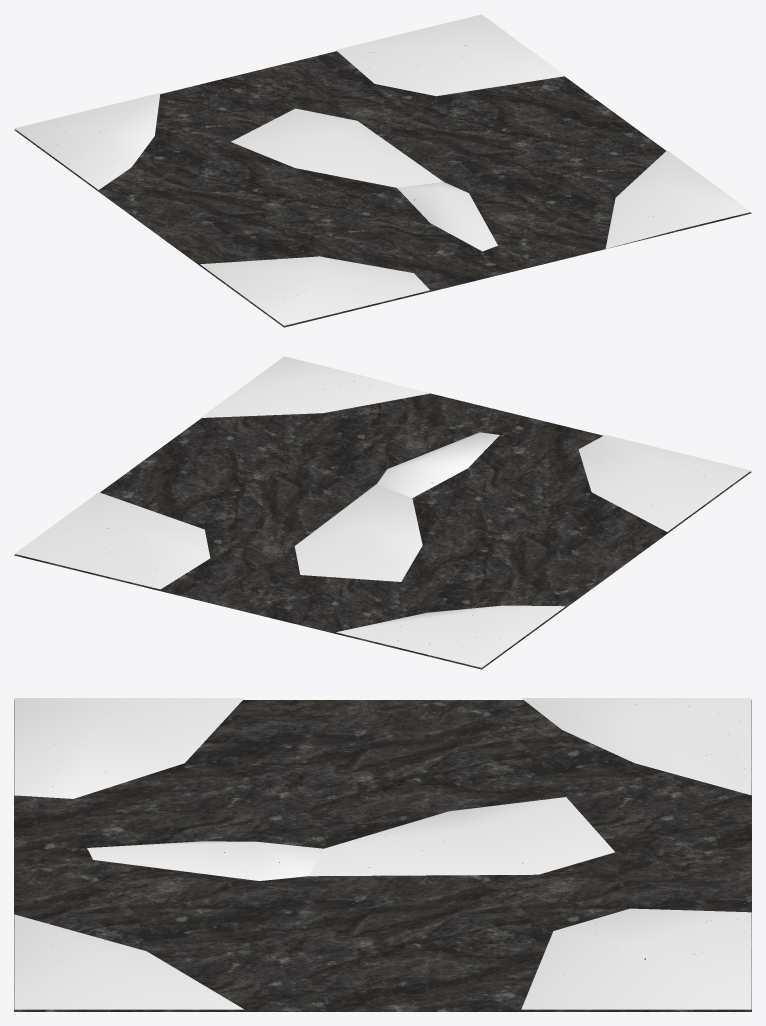
File: Garden_05_Art.glb
3 views of the same model, one above another, from view 1: azimuth 30°, elevation 25°; view 2: azimuth 150°, elevation 25°; view 3: azimuth 270°, elevation 25° (orthographic). The views are drawn at different scales.
Visible parts, largest first — view 1: Garden_05_Art; view 2: Garden_05_Art; view 3: Garden_05_Art.
Part boxes in pixels (bbox=[...]): Garden_05_Art: bbox=[14, 14, 751, 327]; Garden_05_Art: bbox=[14, 356, 751, 669]; Garden_05_Art: bbox=[14, 698, 751, 1011].
Size of the model in its own units: 15.98 by 0.5007 by 15.98.
2 materials, 2 textured.
